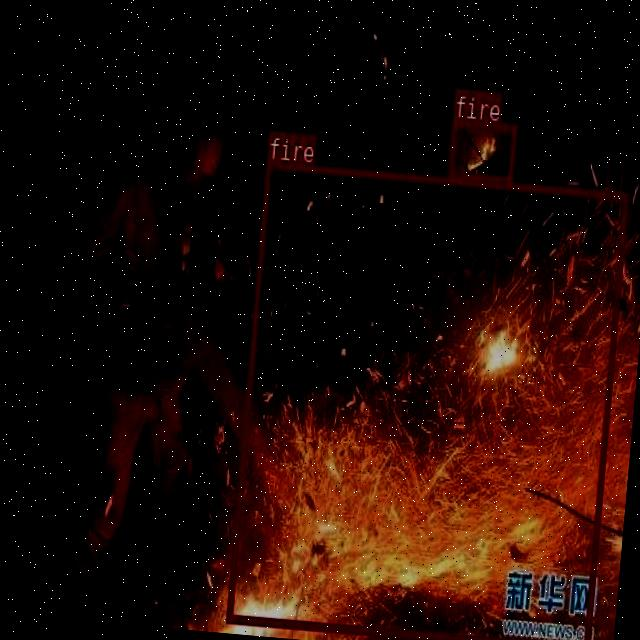fire: (225, 159, 627, 640), (446, 116, 517, 182)
